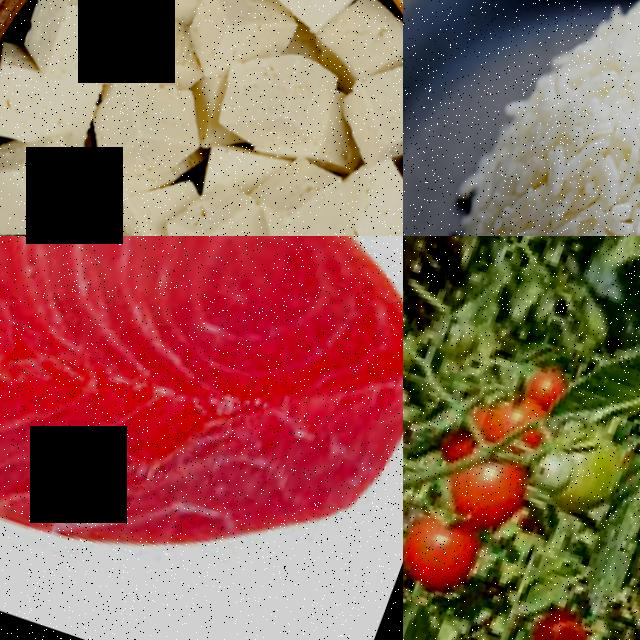tofu: (207, 34, 352, 172), (76, 59, 219, 196), (12, 0, 148, 99), (0, 119, 103, 236), (327, 37, 403, 182), (149, 171, 290, 236), (252, 0, 381, 45), (108, 0, 244, 38)
tomato: (443, 440, 542, 536), (403, 496, 491, 600)
tuna: (0, 236, 403, 628)
white rice: (424, 112, 640, 236), (520, 0, 640, 203)
